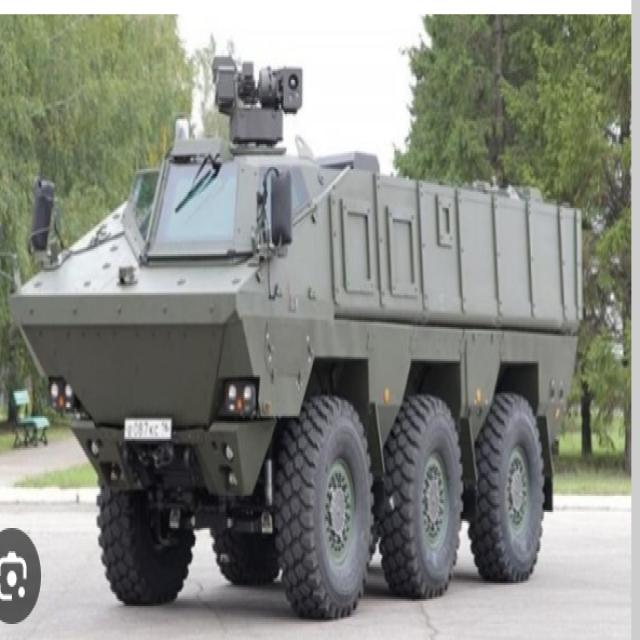MIL_APC: (14, 66, 597, 624)
